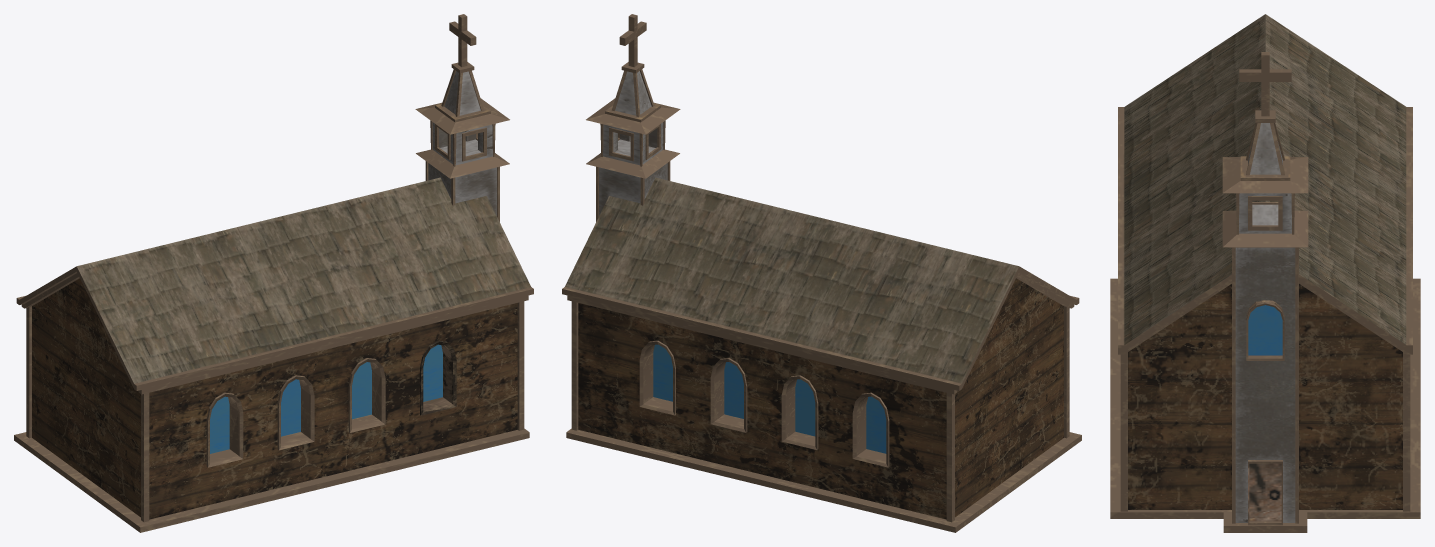
Rendered from city_hall.glb.
3 renders of one model, left to right at view 1: azimuth 30°, elevation 25°; view 2: azimuth 150°, elevation 25°; view 3: azimuth 270°, elevation 25°, orthographic. The views are drawn at different scales.
Parts seen in each view (by area): view 1: Church; view 2: Church; view 3: Church.
Part boxes in pixels (x1,y1,x2,y2): Church: [14, 14, 533, 532]; Church: [562, 14, 1081, 532]; Church: [1110, 14, 1420, 532].
Bounding box in the file's own units: 171 × 148 × 89.91.
1 material, 1 textured.
